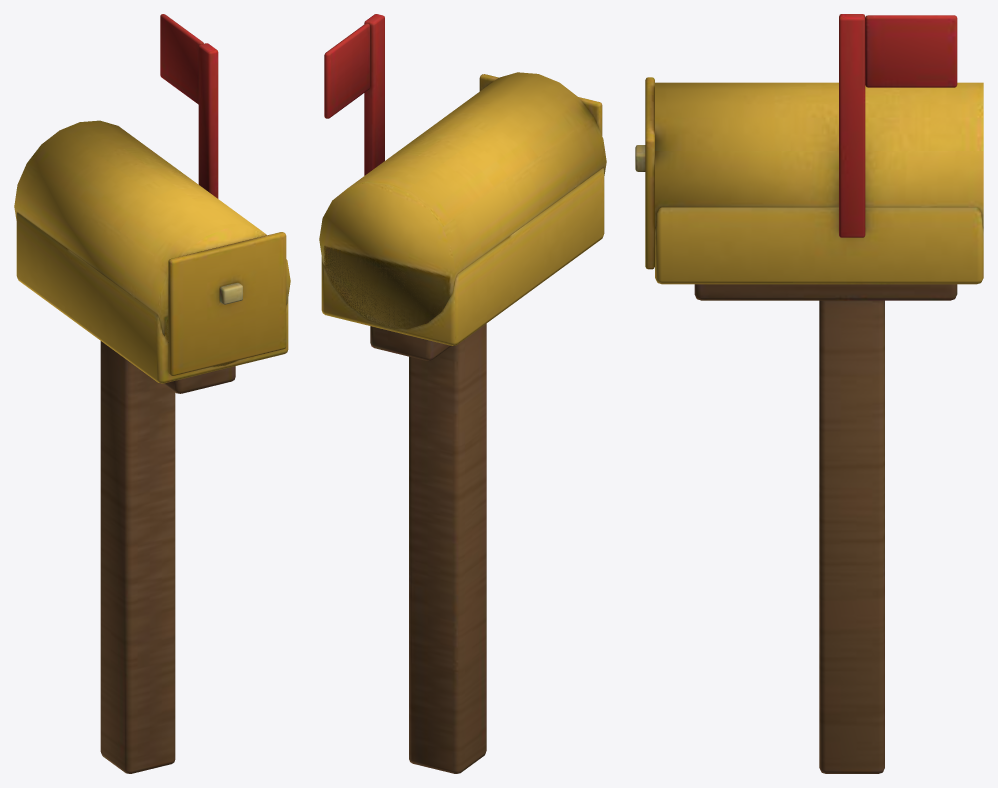
Rendered from mailbox_yellow.glb.
3 views of the same model, side by side, from view 1: azimuth 30°, elevation 25°; view 2: azimuth 150°, elevation 25°; view 3: azimuth 270°, elevation 25° (orthographic). The views are drawn at different scales.
Visible parts, largest first — view 1: mailbox_yellow; view 2: mailbox_yellow; view 3: mailbox_yellow.
Boxes of the visible parts, box(x1,y1,x2,y2) form: mailbox_yellow: box(14, 14, 290, 773); mailbox_yellow: box(319, 14, 606, 773); mailbox_yellow: box(635, 14, 983, 773).
Size of the model in its own units: 0.28 by 1.32 by 0.53.
Materials: 5 (5 with a texture image).
